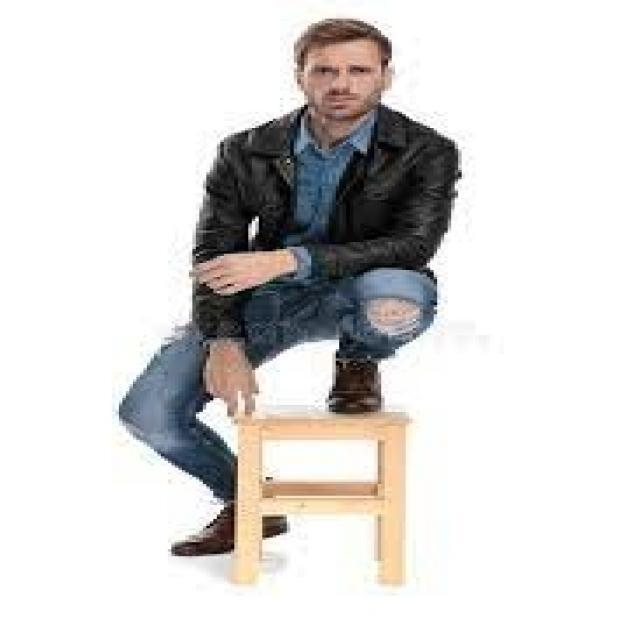walking: (100, 18, 481, 565)
